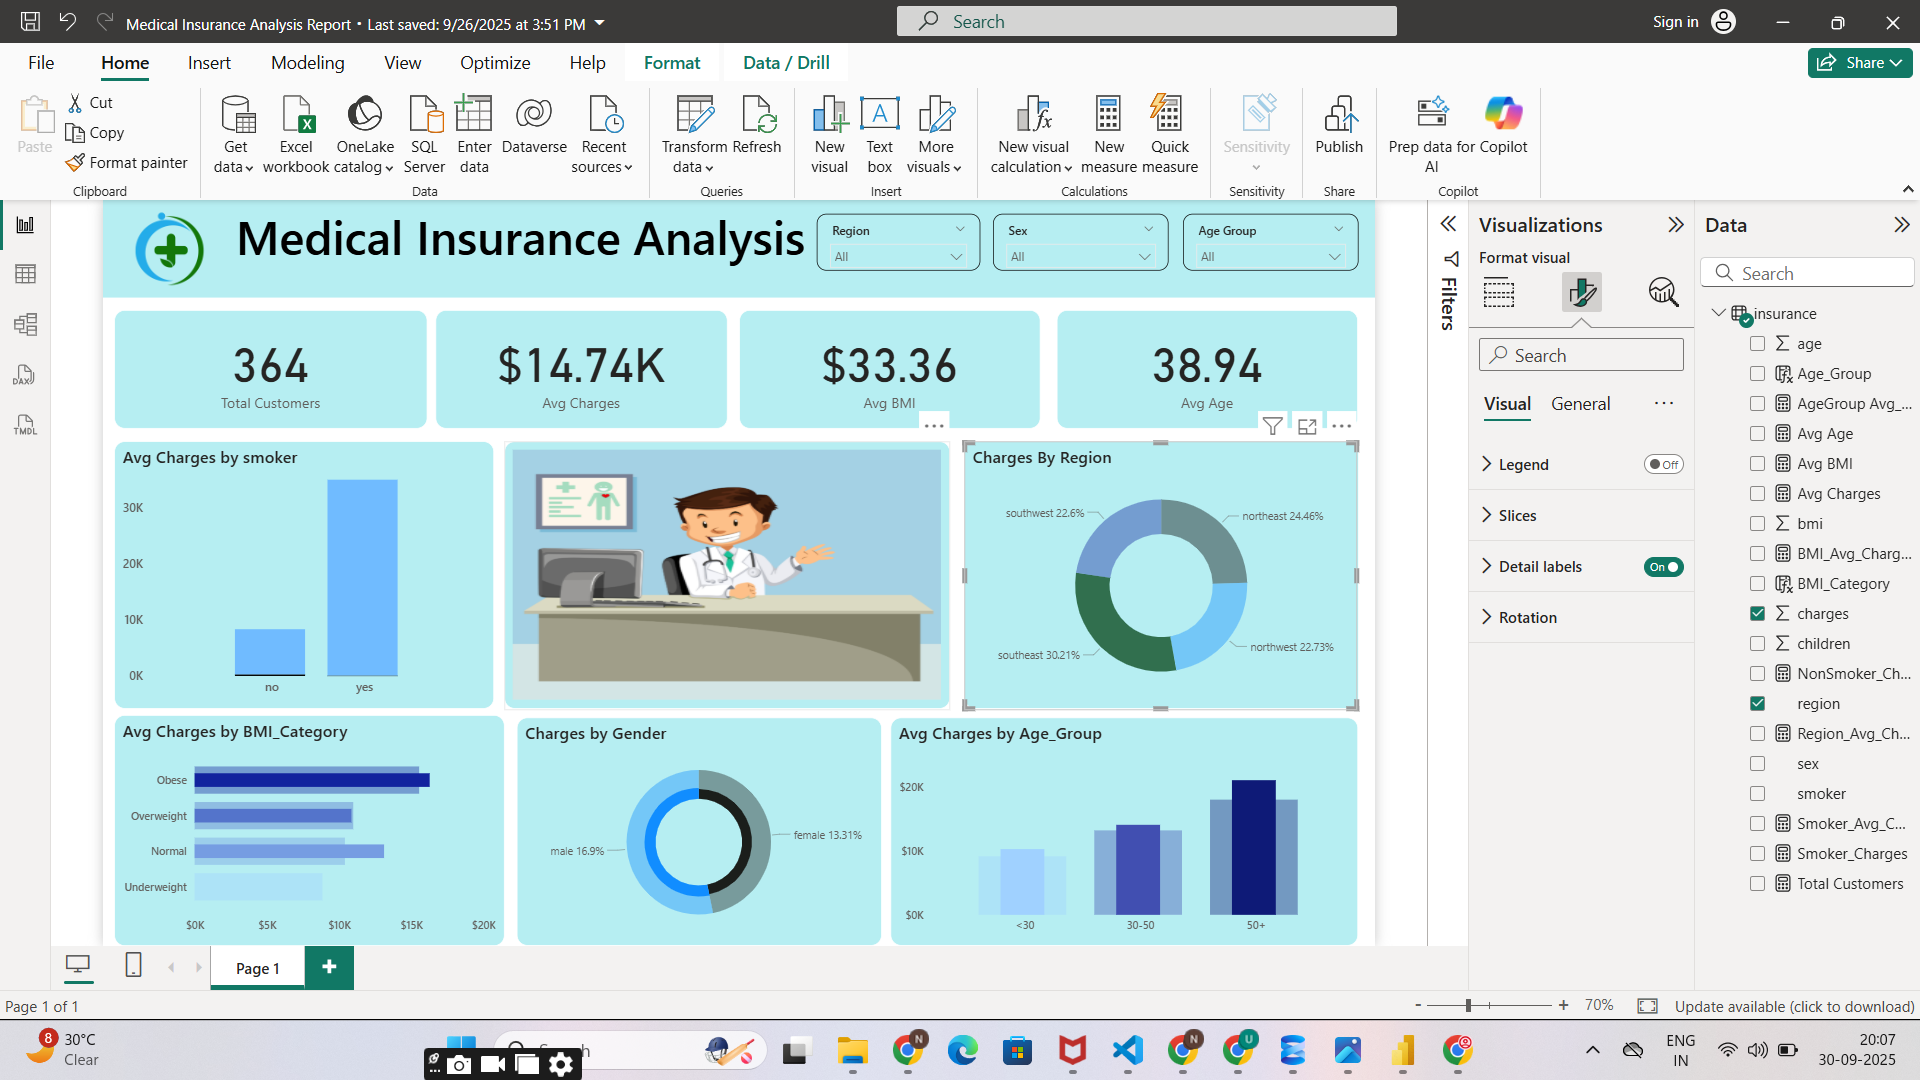

What the dashboard file says about the page in this screenshot:
{"tool":"powerbi","page":{"name":"Page 1","canvas":[1450,850],"ordinal":0},"visuals":[{"type":"textbox","box":[0,0,1450.3,110.9],"z":0},{"type":"donutChart","title":" Charges by Gender","fields":{"Y":["Sum(insurance.charges)"],"Series":["insurance.sex"]},"box":[471.1,589.7,415.7,260.2],"z":1000},{"type":"card","fields":{"Values":["insurance.Total Customers"]},"box":[12.3,124.7,357.2,135.5],"z":2000},{"type":"card","fields":{"Values":["insurance.Avg Charges"]},"box":[378.7,124.7,332.6,135.5],"z":3000},{"type":"card","fields":{"Values":["insurance.Avg BMI"]},"box":[725.2,124.7,343.3,135.5],"z":4000},{"type":"card","fields":{"Values":["insurance.Avg Age"]},"box":[1087,124.7,343.3,135.5],"z":5000},{"type":"donutChart","title":"Charges By Region","fields":{"Y":["Sum(insurance.charges)"],"Series":["insurance.region"]},"box":[980.7,275.6,449.6,304.8],"z":6000},{"type":"columnChart","fields":{"Y":["insurance.Avg Charges"],"Category":["insurance.Age_Group"]},"box":[897.6,589.7,532.7,260.2],"z":7000},{"type":"clusteredBarChart","fields":{"Category":["insurance.BMI_Category"],"Y":["insurance.Avg Charges"]},"box":[12.3,586.6,444.9,263.3],"z":8000},{"type":"image","box":[457.3,275.6,508.1,304.8],"z":9000},{"type":"slicer","fields":{"Values":["insurance.region"]},"box":[812.9,15.4,186.3,64.7],"z":10000},{"type":"slicer","fields":{"Values":["insurance.sex"]},"box":[1014.6,15.4,200.1,64.7],"z":11000},{"type":"slicer","fields":{"Values":["insurance.Age_Group"]},"box":[1230.1,15.4,200.1,64.7],"z":12000},{"type":"columnChart","title":" Avg Charges by smoker","fields":{"Category":["insurance.smoker"],"Y":["Sum(insurance.children)","insurance.Avg Charges"]},"box":[12.3,275.6,432.6,304.8],"z":13000},{"type":"image","box":[24.6,0,103.2,110.9],"z":14000}]}

Visuals, with their boxes on the page's 1450x850 design canvas (x1, y1, x2, y2). These are canvas units, not pixel positions in the 1920x1080 screenshot, which may show the page scaled, cropped or inside an application window:
textbox: detection(0, 0, 1450, 111)
" Charges by Gender" donutChart: detection(471, 590, 887, 850)
card - insurance.Total Customers: detection(12, 125, 370, 260)
card - insurance.Avg Charges: detection(379, 125, 711, 260)
card - insurance.Avg BMI: detection(725, 125, 1068, 260)
card - insurance.Avg Age: detection(1087, 125, 1430, 260)
"Charges By Region" donutChart: detection(981, 276, 1430, 580)
columnChart - insurance.Avg Charges x insurance.Age_Group: detection(898, 590, 1430, 850)
clusteredBarChart - insurance.BMI_Category x insurance.Avg Charges: detection(12, 587, 457, 850)
image: detection(457, 276, 965, 580)
slicer - insurance.region: detection(813, 15, 999, 80)
slicer - insurance.sex: detection(1015, 15, 1215, 80)
slicer - insurance.Age_Group: detection(1230, 15, 1430, 80)
" Avg Charges by smoker" columnChart: detection(12, 276, 445, 580)
image: detection(25, 0, 128, 111)
